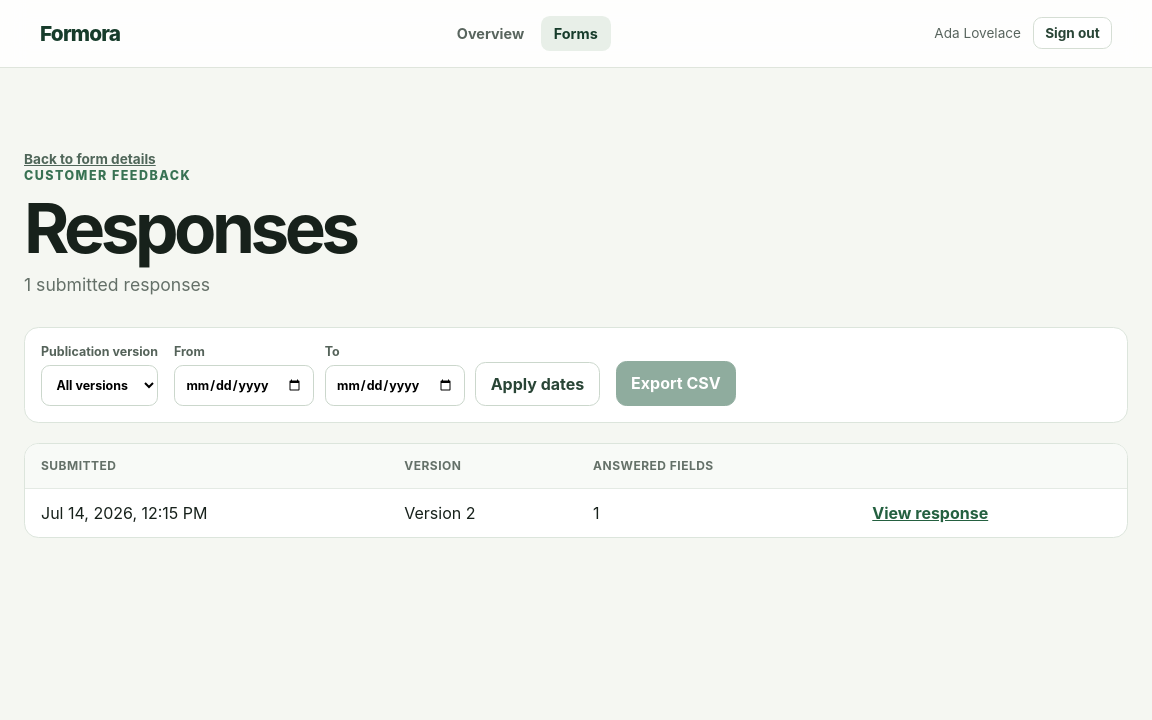
Test: application routes › lists responses and opens publication-aware answer details
Expected: the heading "Responses" is shown, [24,186,356,270]
Expected: the text "1 submitted responses" is shown, [24,274,210,295]
What coordinates should you click on to do the following:
click the link "View response"
I would click on:
 (930, 513)
Its box is [872,503,988,523].
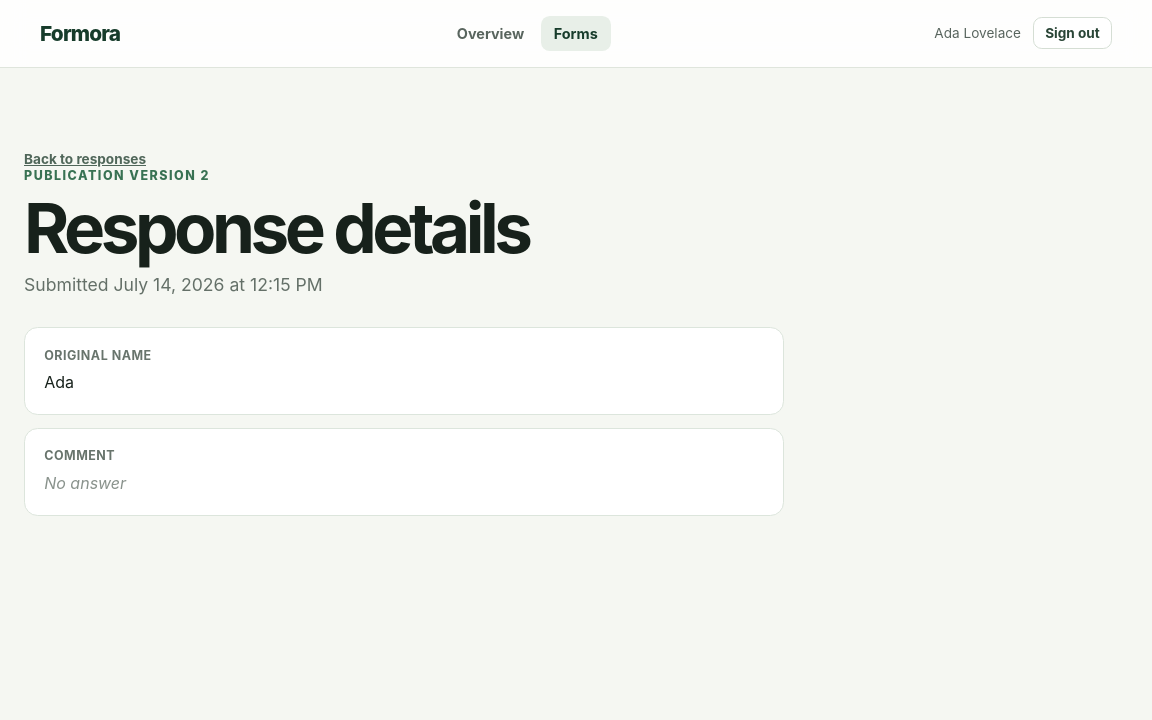
Now the heading "Response details" is shown, box [24,186,528,270]
Now the heading "Original name" is shown, box [44,348,152,362]
Now the text "Ada" is shown, box [44,372,74,392]
